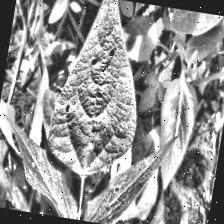ALS: (28, 0, 155, 174), (82, 119, 176, 224)
